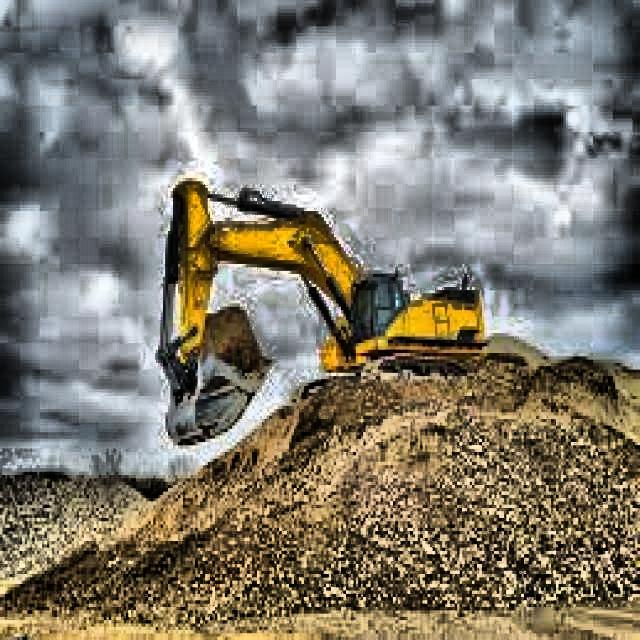bull_dozer/loader/grader: (148, 170, 490, 454)
person: (378, 288, 388, 307)
